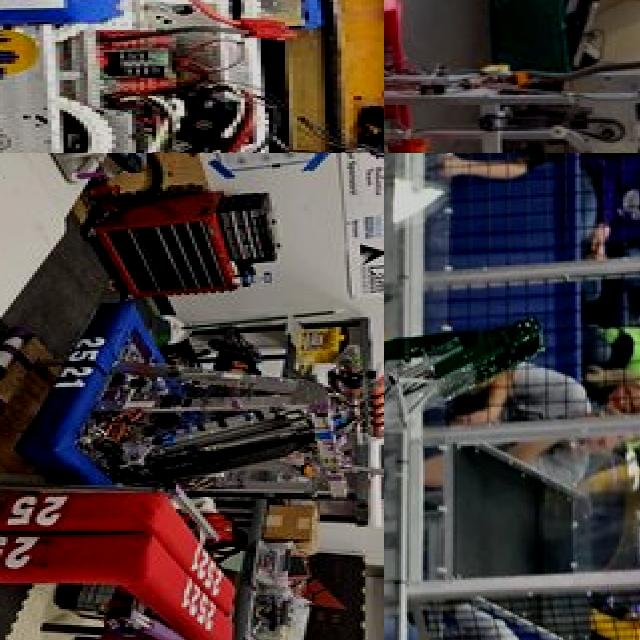FRC-Robots: (384, 153, 632, 640), (10, 286, 384, 548), (0, 0, 384, 153), (384, 0, 640, 153)
